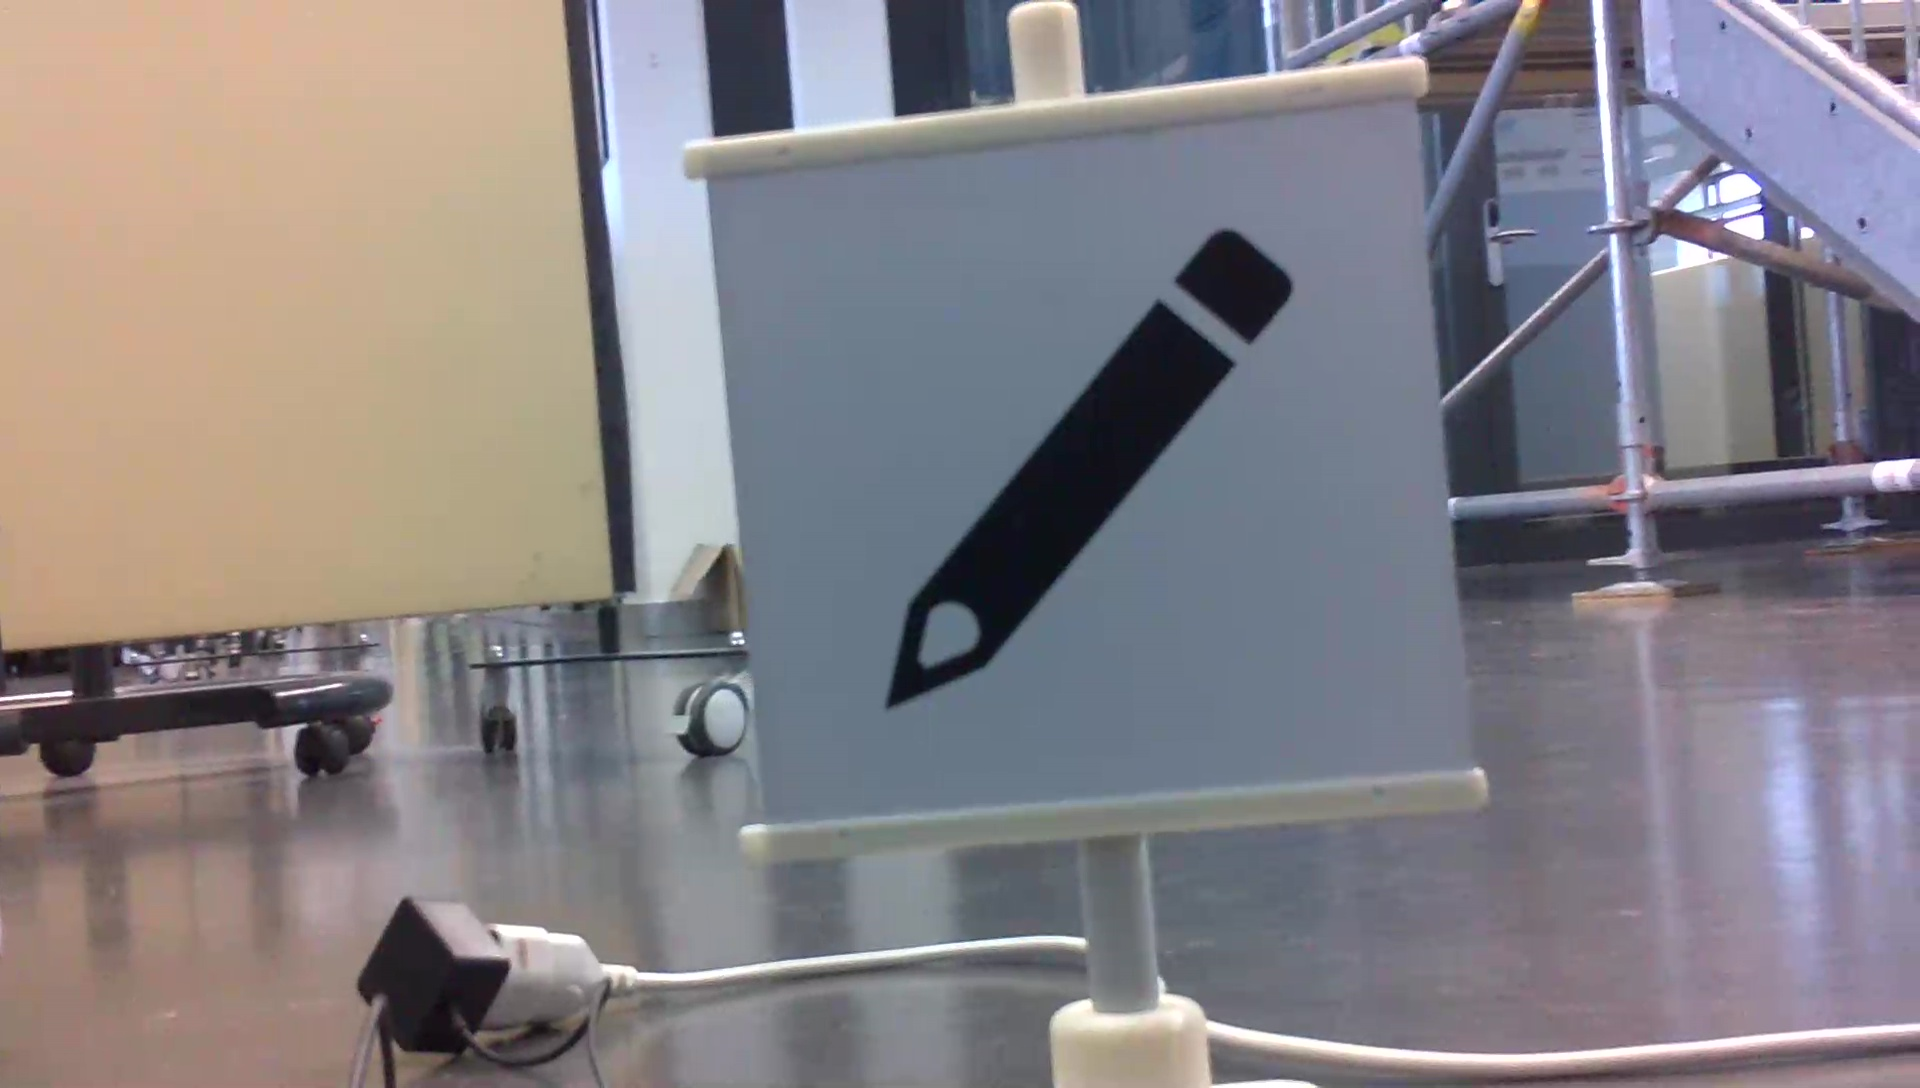pencil: (862, 215, 1312, 723)
